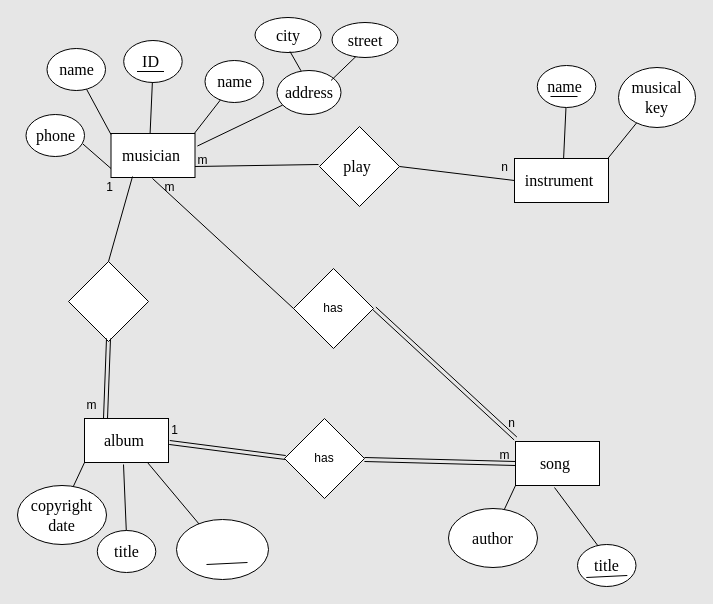
Some shapes in this 713 by 604 pixel diagram are drawn without their labels. Here are the shapes that lost their labels. From the top down, the box of each, then its label:
(68, 260, 148, 342): Produces
(176, 518, 268, 580): Album_ID
